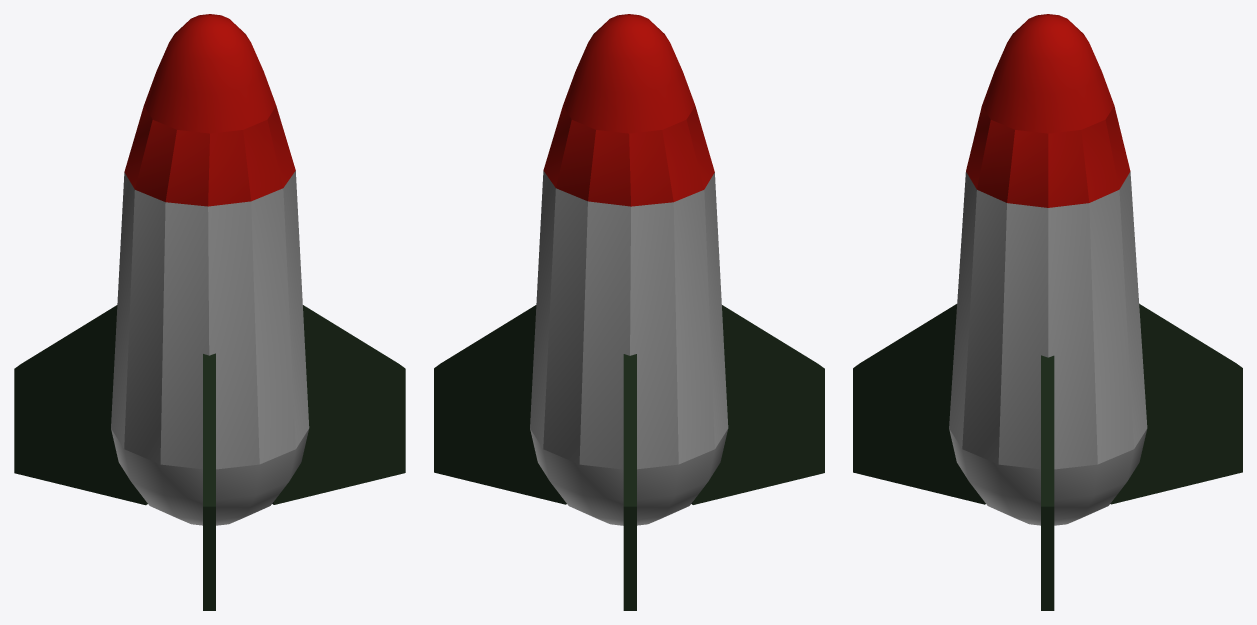
File: rocket.FBX
The picture shows the model from 3 angles, left to right: view 1: azimuth 30°, elevation 25°; view 2: azimuth 150°, elevation 25°; view 3: azimuth 270°, elevation 25°; orthographic projection.
Parts seen in each view (by area): view 1: OilTank001; view 2: OilTank001; view 3: OilTank001.
Part boxes in pixels (left/top/right/bottom): OilTank001: left=14, top=14, right=405, bottom=610; OilTank001: left=434, top=14, right=824, bottom=610; OilTank001: left=853, top=14, right=1242, bottom=610.
Bounding box in the file's own units: 190 × 309 × 218.
